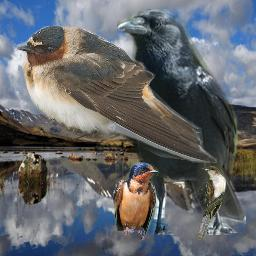Crow: (117, 9, 246, 235)
Cuckoo: (197, 166, 227, 240)
Swallow: (16, 25, 217, 163), (113, 162, 159, 241)
